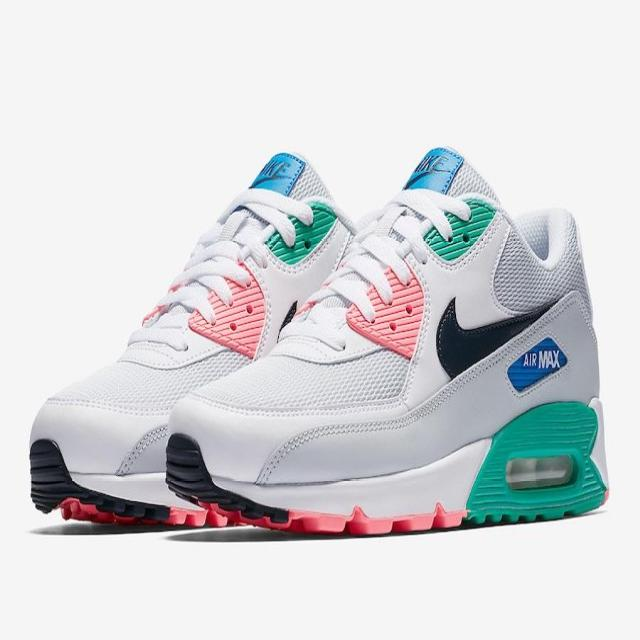shoes: (158, 136, 614, 557), (20, 144, 382, 558)
